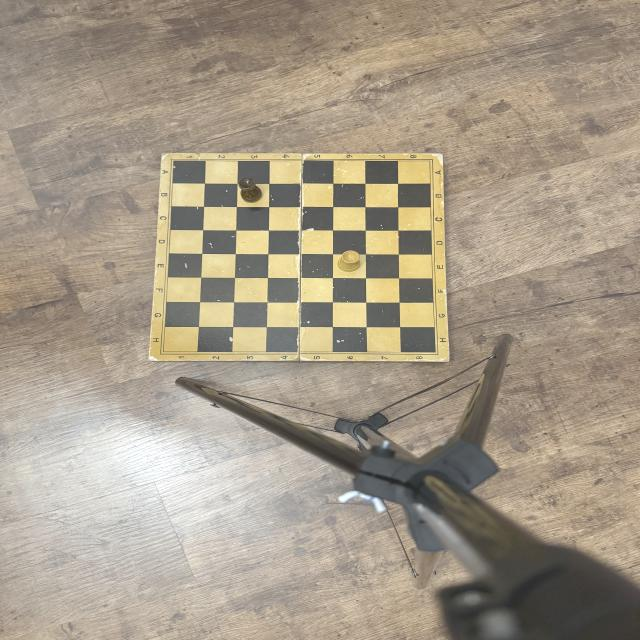black-rook: (238, 177, 263, 203)
white-rook: (338, 250, 360, 272)
